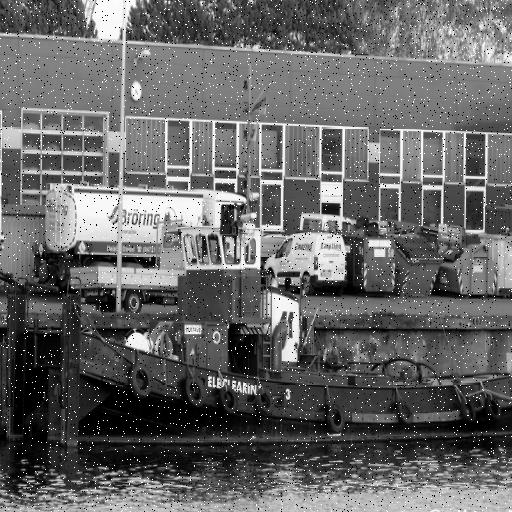tugboat: (1, 202, 512, 480)
